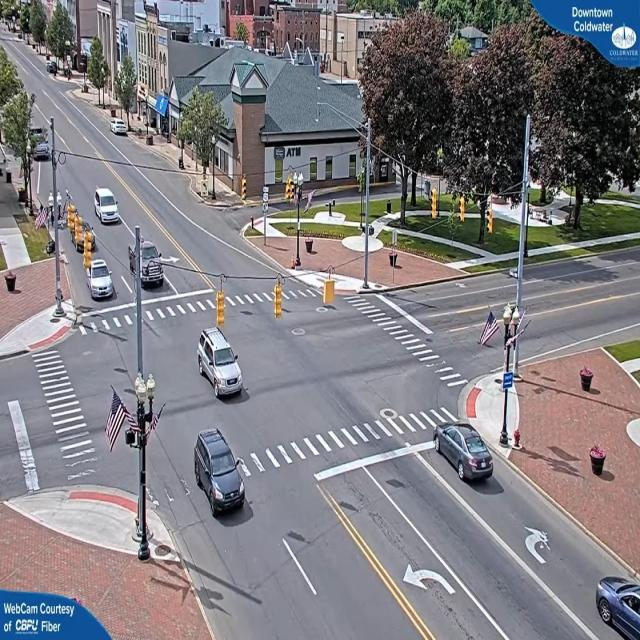car: (194, 430, 249, 519), (434, 426, 494, 486), (198, 330, 246, 401), (596, 576, 640, 638), (134, 237, 164, 290), (88, 256, 116, 302), (92, 188, 120, 224), (112, 121, 128, 136)
